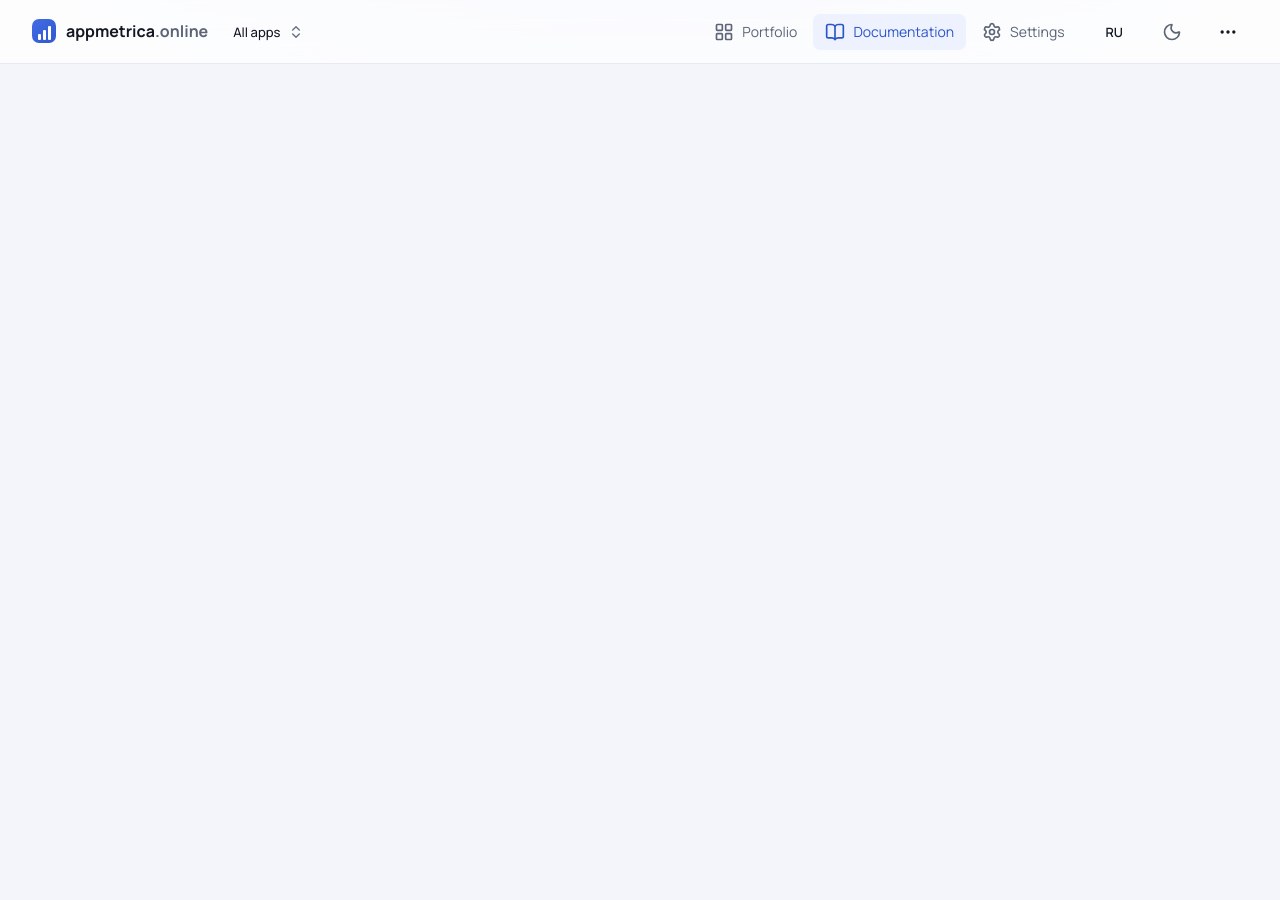
Scenario: AppHeader in English › speaks English and links the English docs
The image size is (1280, 900).
Expected: the link "Settings" is shown, [982, 22, 1064, 42]
Expected: the button named "Switch to dark theme" is shown, [1152, 12, 1192, 52]
Click the dropdown labelled "app" at (269, 32), box [224, 14, 313, 50]
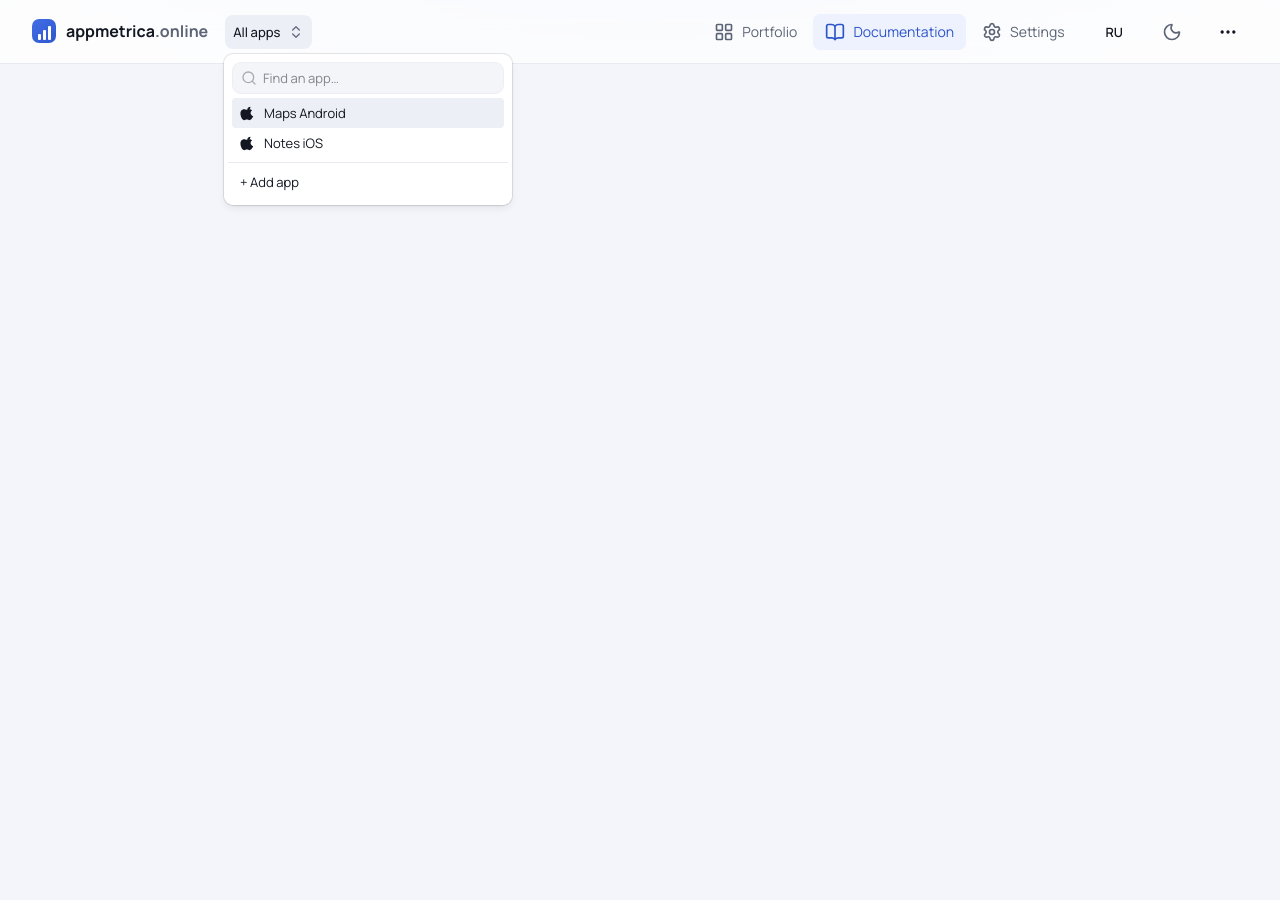
Type "zzz" into the dropdown with placeholder "Find an app…" at (380, 78), box [257, 69, 503, 87]
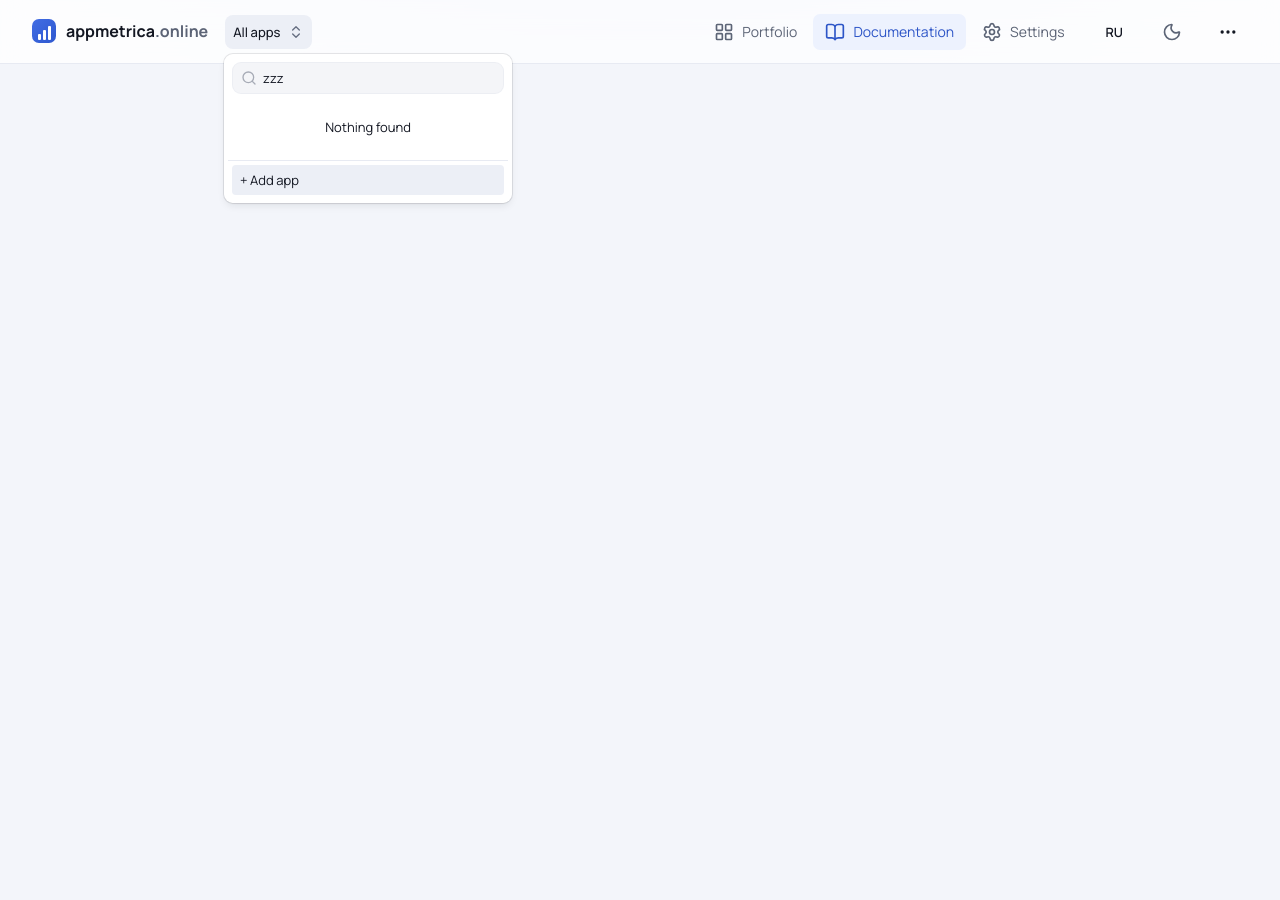
Now the option "+ Add app" is shown, box [232, 165, 504, 195]
Now the text "Nothing found" is shown, box [325, 118, 411, 136]
